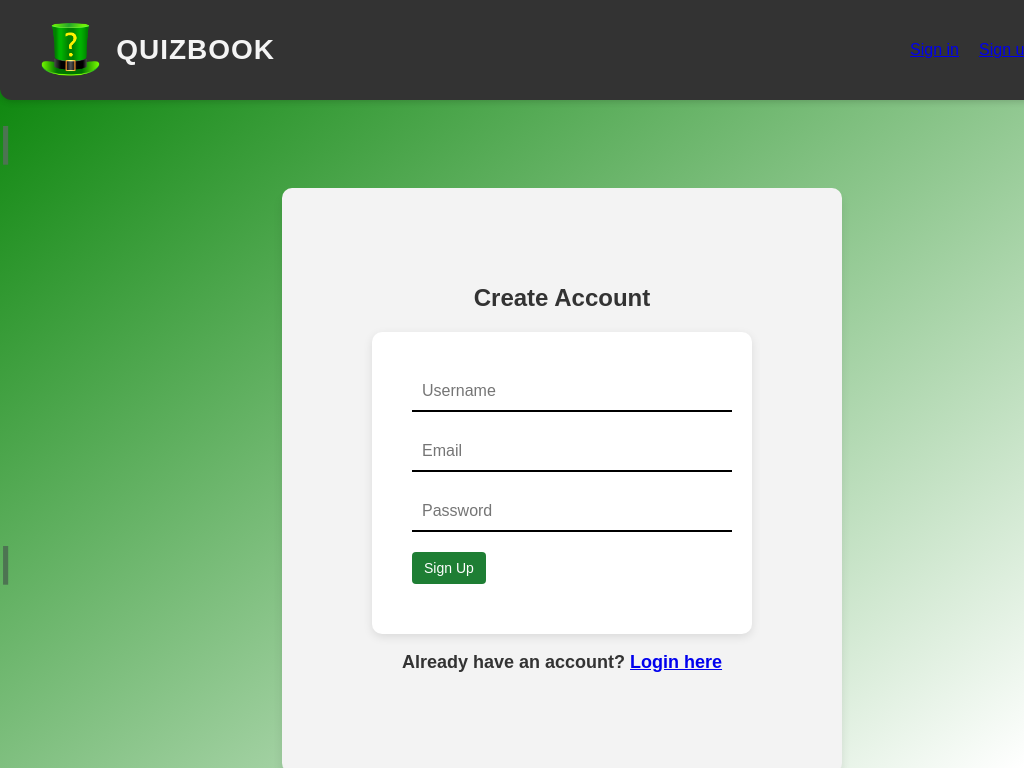
Signup Page › navigates to /signup on unsuccessful signup
This screenshot has width=1024, height=768.
In the field with placeholder "Username": (572, 392) [412, 372, 732, 412], type "testUser"
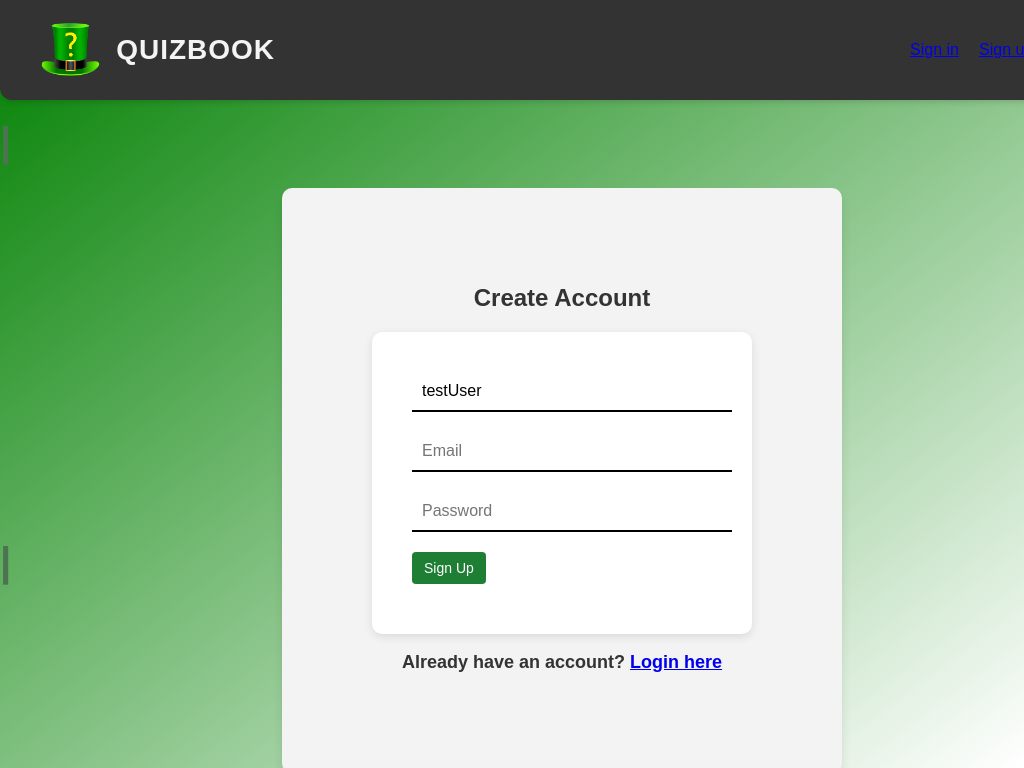
In the field with placeholder "Email": (572, 452) [412, 432, 732, 472], type "test@example.com"
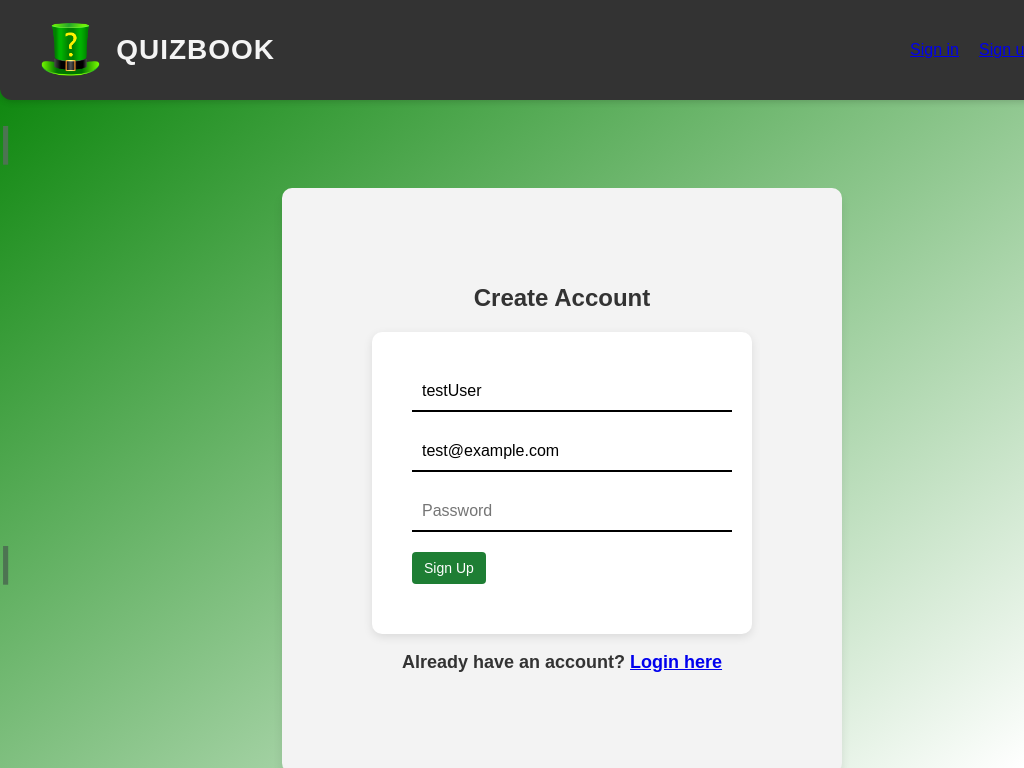
Click the button "Sign Up": (449, 568) [412, 552, 486, 584]
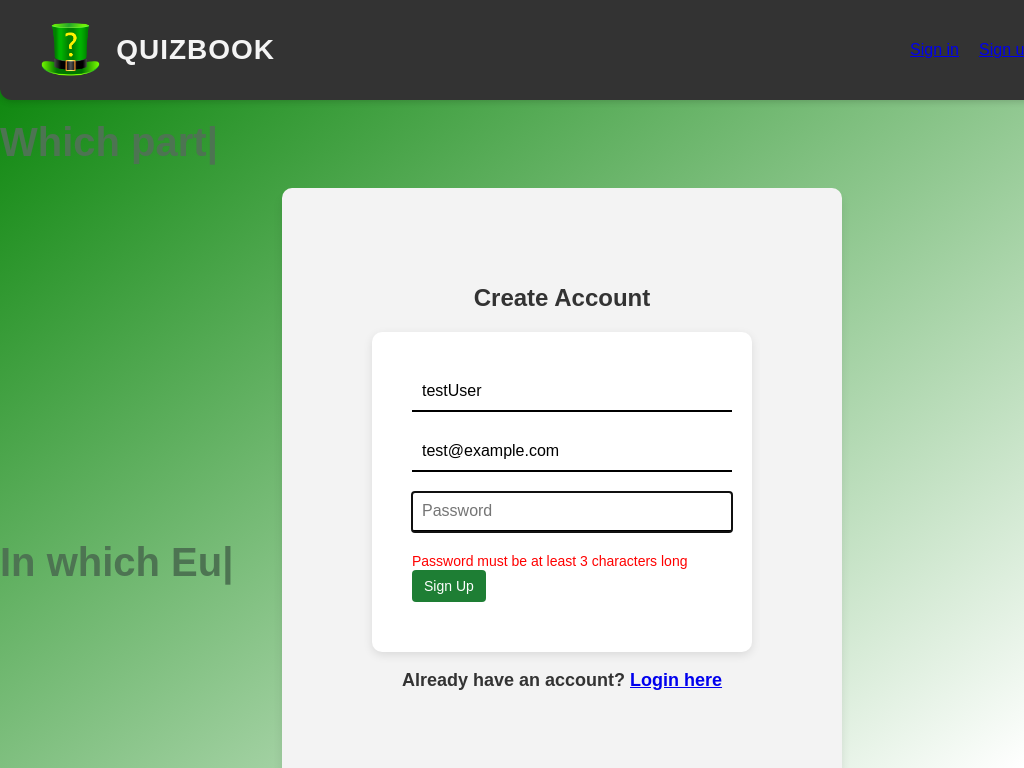
Now the text "Password must be at least 3 characters long" is shown, box [412, 553, 688, 569]
